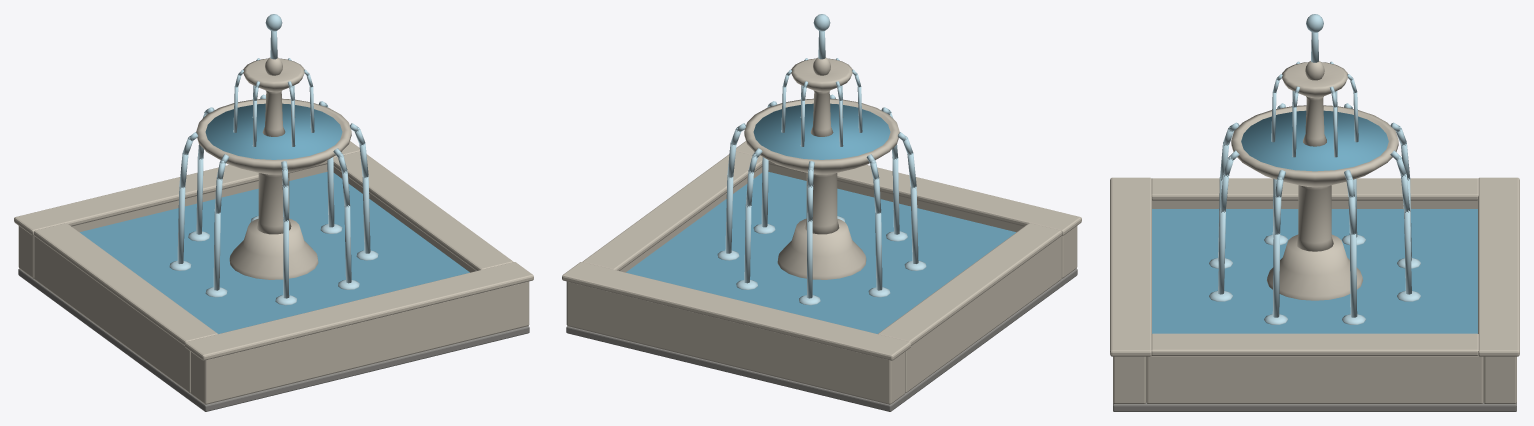
File: fountainTown.glb
3 renders of one model, left to right at view 1: azimuth 30°, elevation 25°; view 2: azimuth 150°, elevation 25°; view 3: azimuth 270°, elevation 25°, orthographic. The views are drawn at different scales.
Parts seen in each view (by area): view 1: fountainTown, splash; view 2: fountainTown, splash; view 3: fountainTown, splash, jet.
Boxes of the visible parts, x1,y1,x2,y2 form: fountainTown: (14,57,533,411); splash: (169,216,378,305); fountainTown: (562,57,1081,411); splash: (717,216,926,305); fountainTown: (1110,61,1519,411); splash: (1209,234,1420,324); jet: (1306,14,1323,62).
Size of the model in its own units: 2.96 by 2.47 by 2.94.
